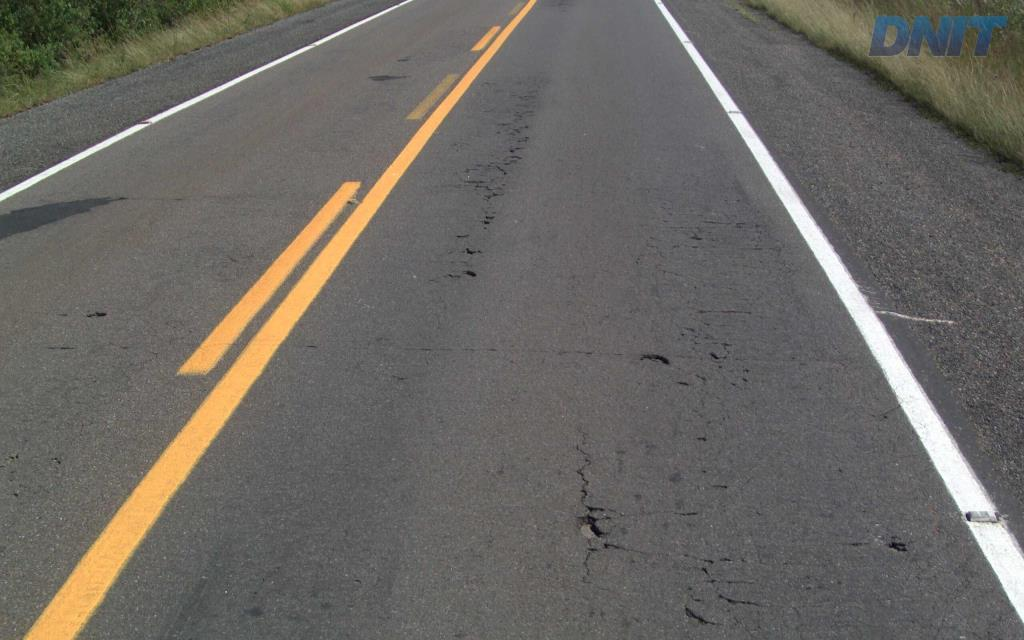crack: (692, 565, 773, 609)
pothole: (565, 503, 609, 549), (636, 351, 678, 371)
